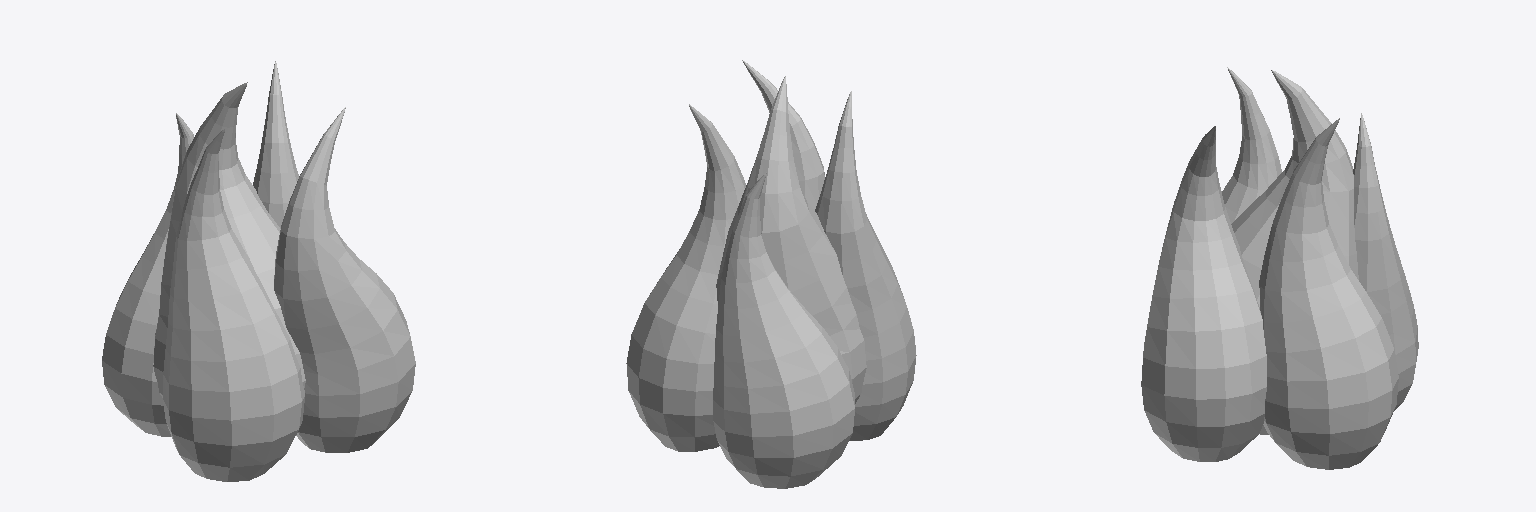
The model's file is fire_000009.obj.
3 renders of one model, left to right at view 1: azimuth 30°, elevation 25°; view 2: azimuth 150°, elevation 25°; view 3: azimuth 270°, elevation 25°, orthographic.
Parts seen in each view (by area): view 1: flame_NurbsPath.015; view 2: flame_NurbsPath.015; view 3: flame_NurbsPath.015.
Part boxes in pixels (x1,y1,x2,y2): flame_NurbsPath.015: (102,61,415,481); flame_NurbsPath.015: (626,60,916,488); flame_NurbsPath.015: (1141,67,1418,469).
Bounding box in the file's own units: 0.7552 × 1.14 × 0.798.